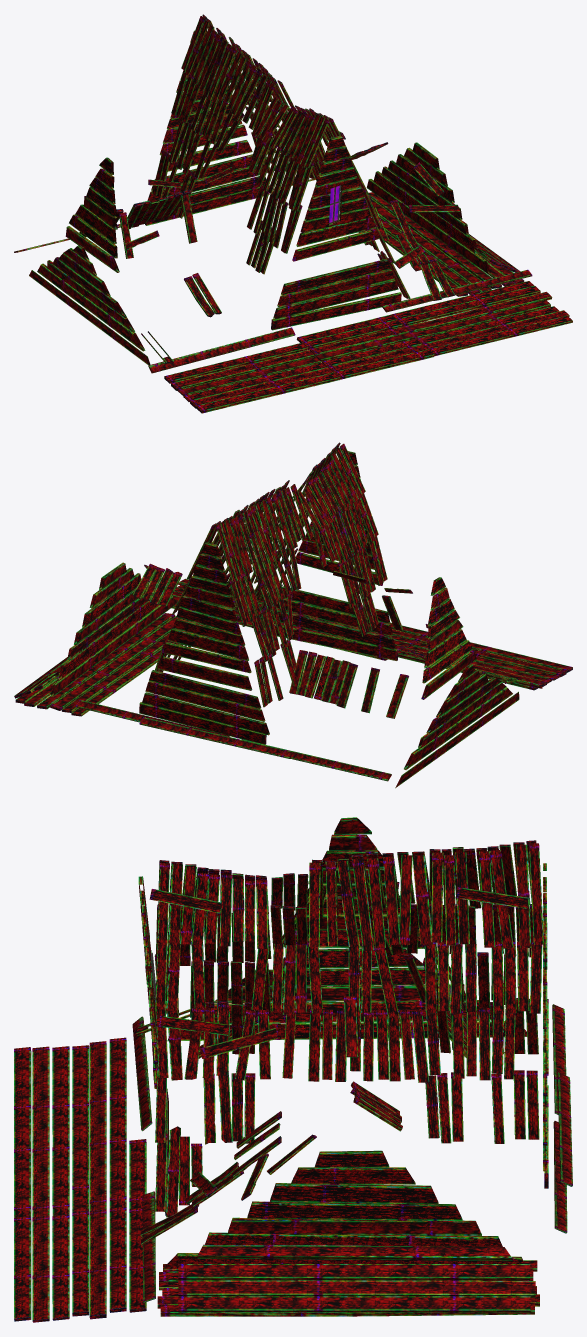
Rendered from SM_Mainroof_PlankStructure.fbx.
3 renders of one model, top to bottom at view 1: azimuth 30°, elevation 25°; view 2: azimuth 150°, elevation 25°; view 3: azimuth 270°, elevation 25°, orthographic. The views are drawn at different scales.
Visible parts, largest first — view 1: SM_Mainroof_PlankStructure; view 2: SM_Mainroof_PlankStructure; view 3: SM_Mainroof_PlankStructure.
Part boxes in pixels (bbox=[...]): SM_Mainroof_PlankStructure: bbox=[14, 14, 572, 413]; SM_Mainroof_PlankStructure: bbox=[14, 442, 572, 788]; SM_Mainroof_PlankStructure: bbox=[14, 817, 572, 1322].
Bounding box in the file's own units: 1504 × 1263 × 845.
